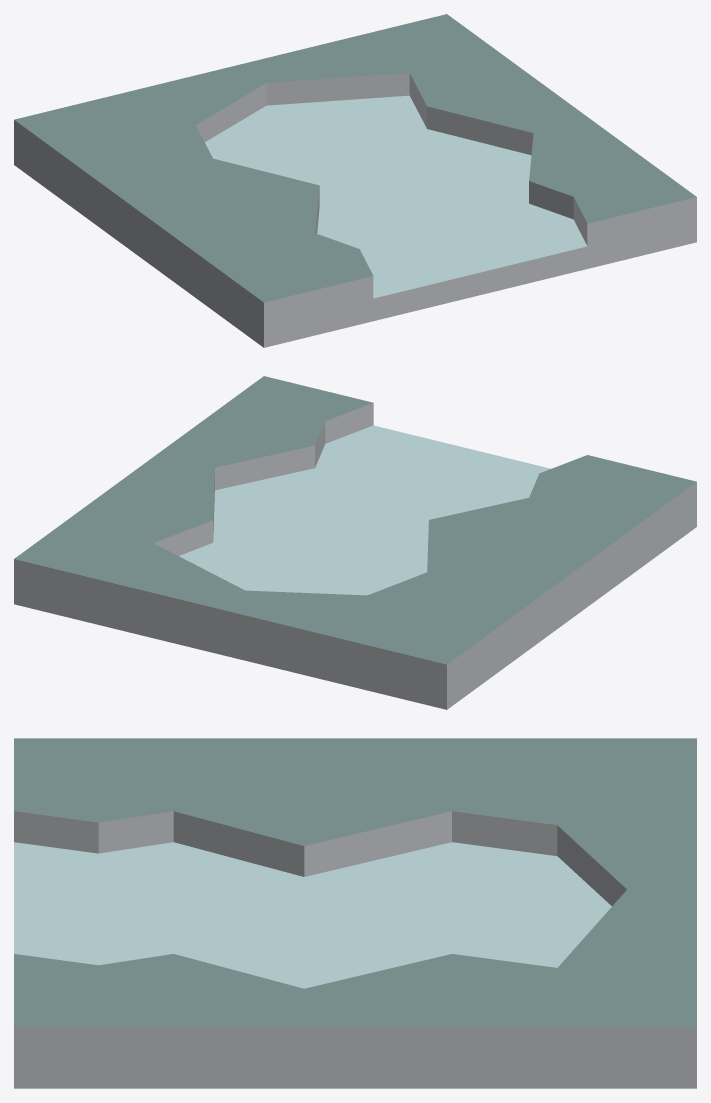
Rendered from Nature River 9.fbx.
The picture shows the model from 3 angles, top to bottom: view 1: azimuth 30°, elevation 25°; view 2: azimuth 150°, elevation 25°; view 3: azimuth 270°, elevation 25°; orthographic projection. The views are drawn at different scales.
Visible parts, largest first — view 1: Nature River 9; view 2: Nature River 9; view 3: Nature River 9.
Boxes of the visible parts, x1,y1,x2,y2 form: Nature River 9: (14,14,696,347); Nature River 9: (14,376,696,709); Nature River 9: (14,738,696,1088).
Bounding box in the file's own units: 3 × 0.3 × 3.
